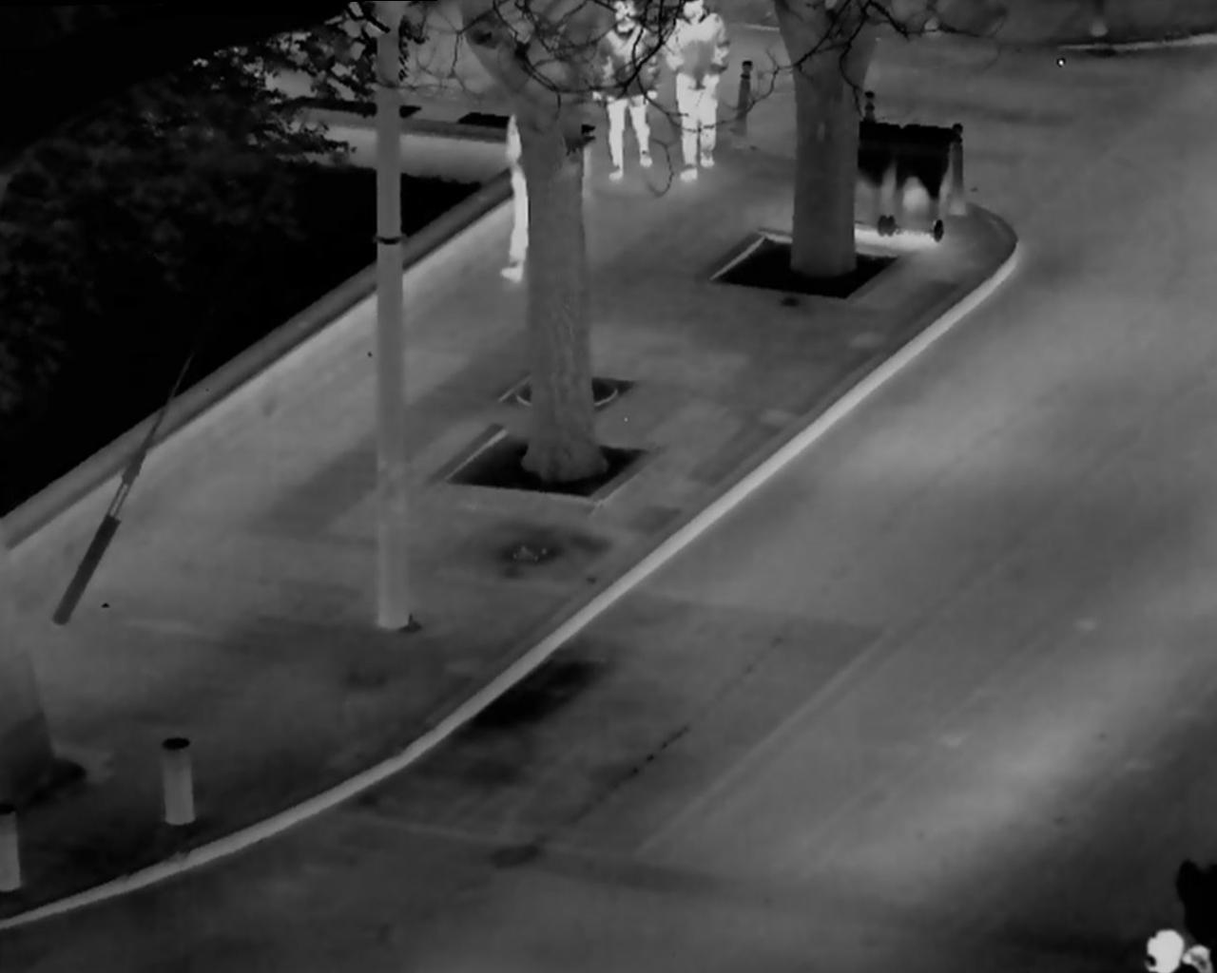person: (666, 4, 744, 192), (496, 111, 541, 284)
